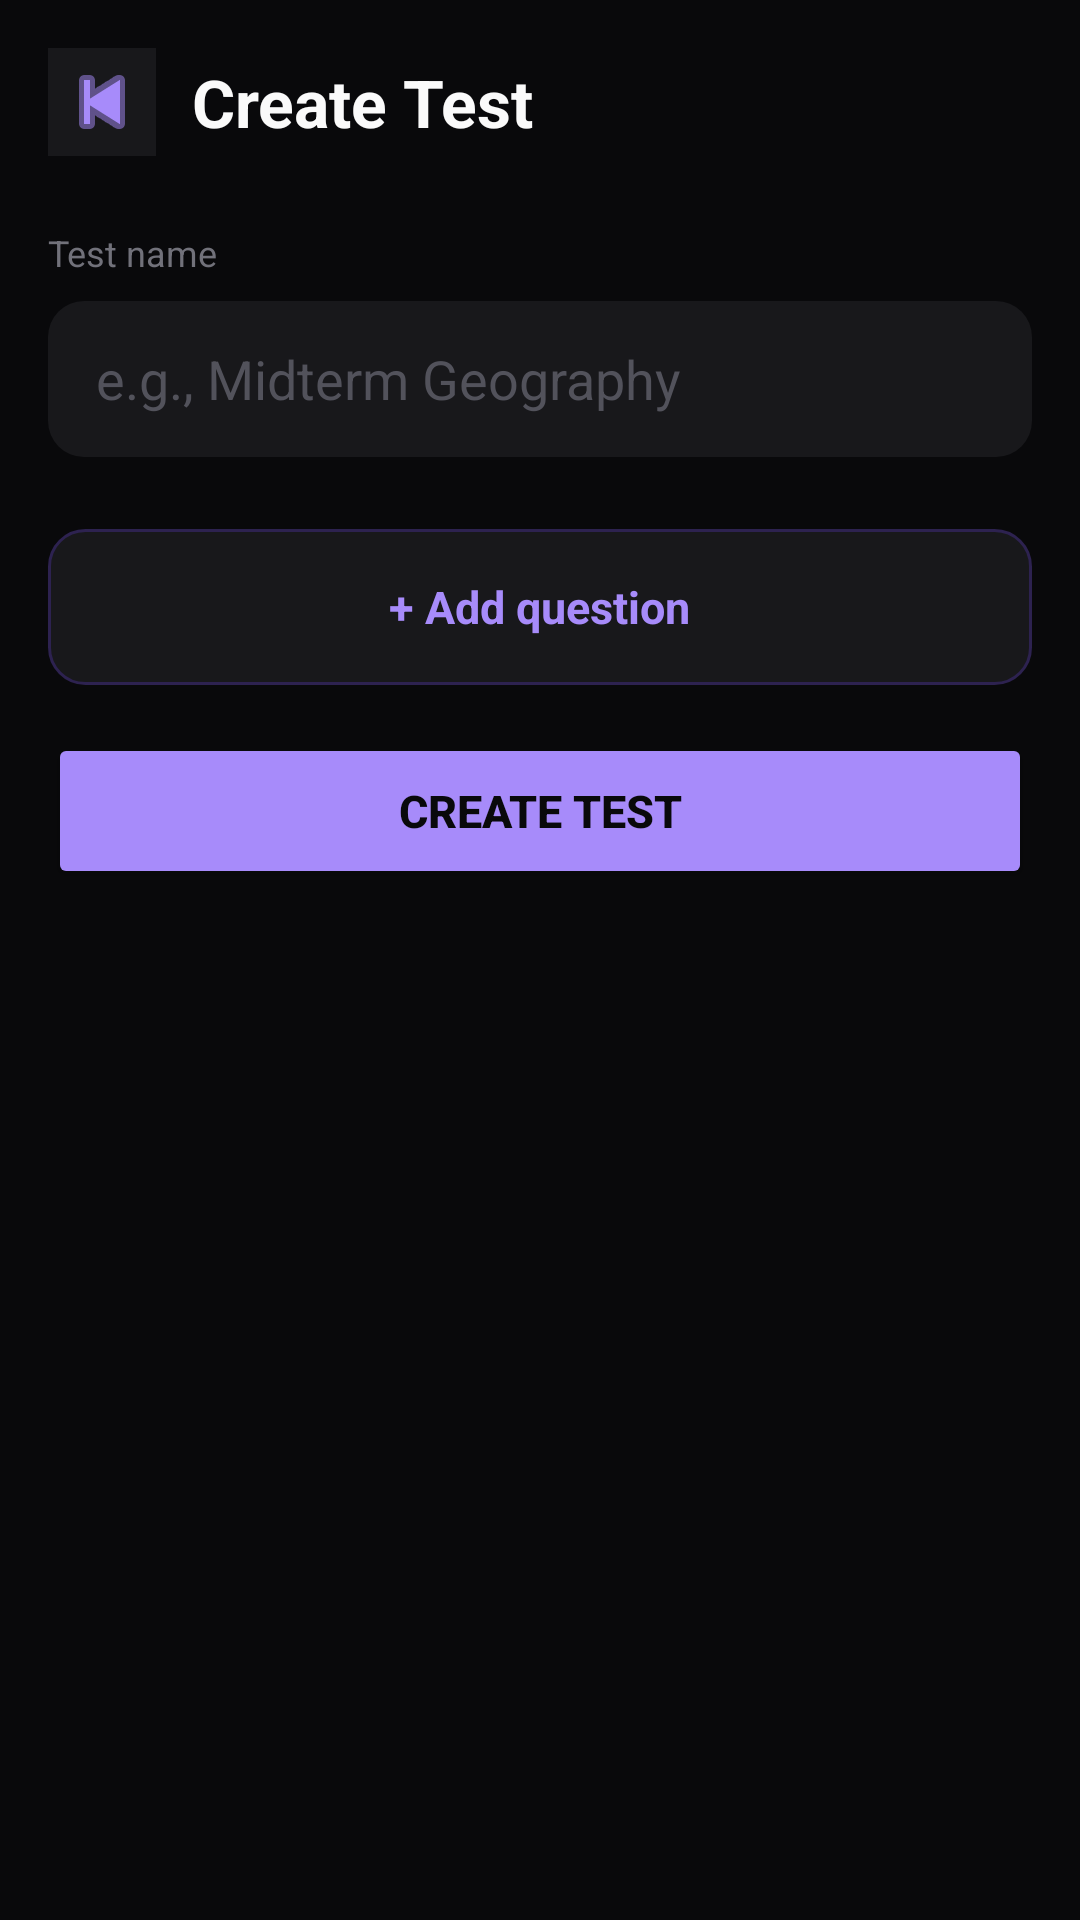

Where to tap for icons on this 1080 × 1920 app screen, as [x,y]:
previous: [102,102]
